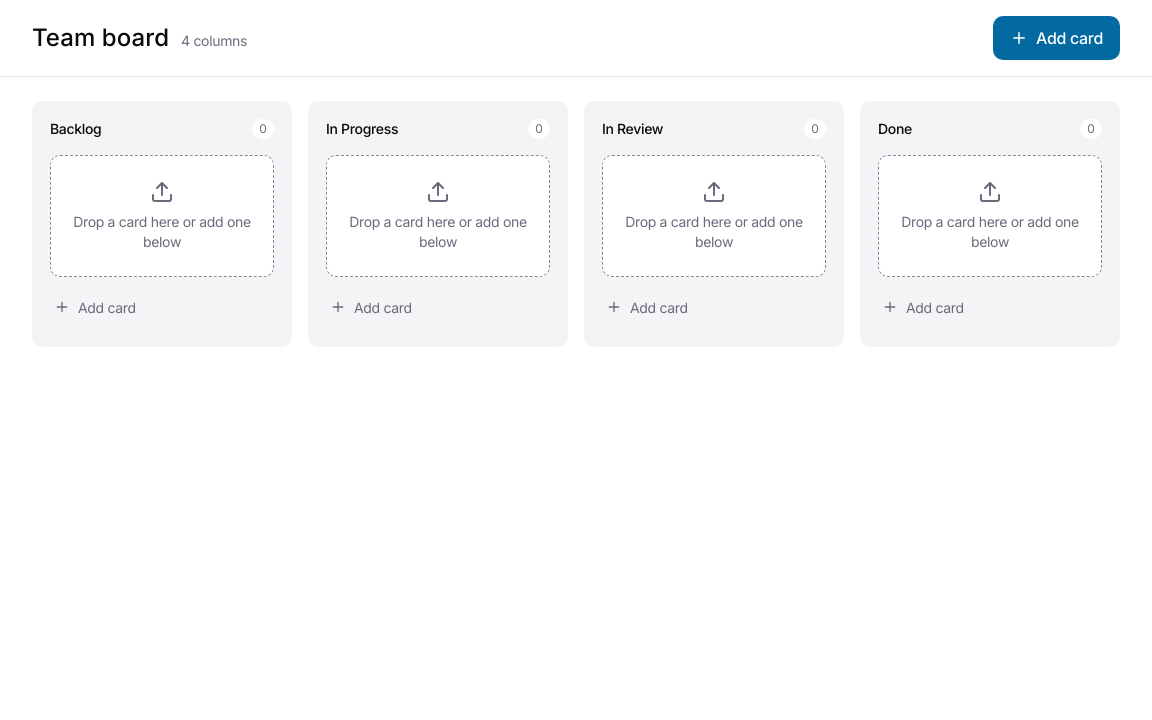
Test: keyboard and focus management › makes the board inert while the dialog is open
Click the button "Add card" in the row of "columns" at (1056, 38), box left=993, top=16, right=1120, bottom=60
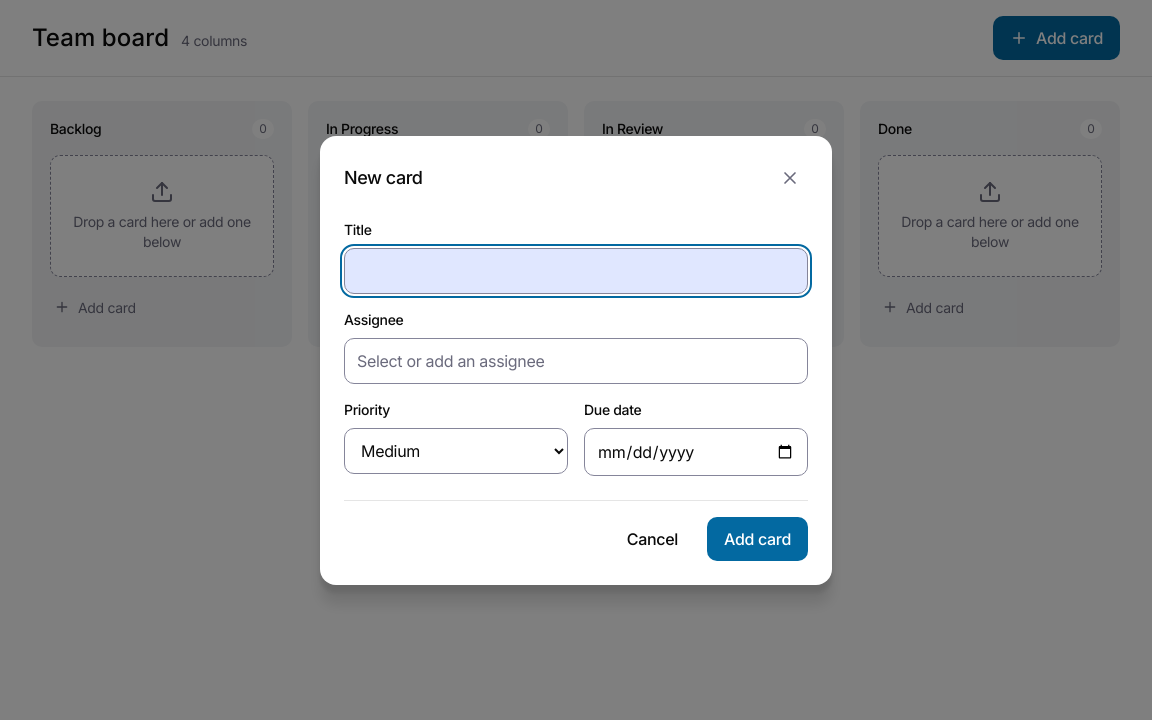
Expected: the element that starts with "Team board" is shown, left=32, top=0, right=1120, bottom=347
Expected: the dialog is shown, left=320, top=136, right=832, bottom=584
